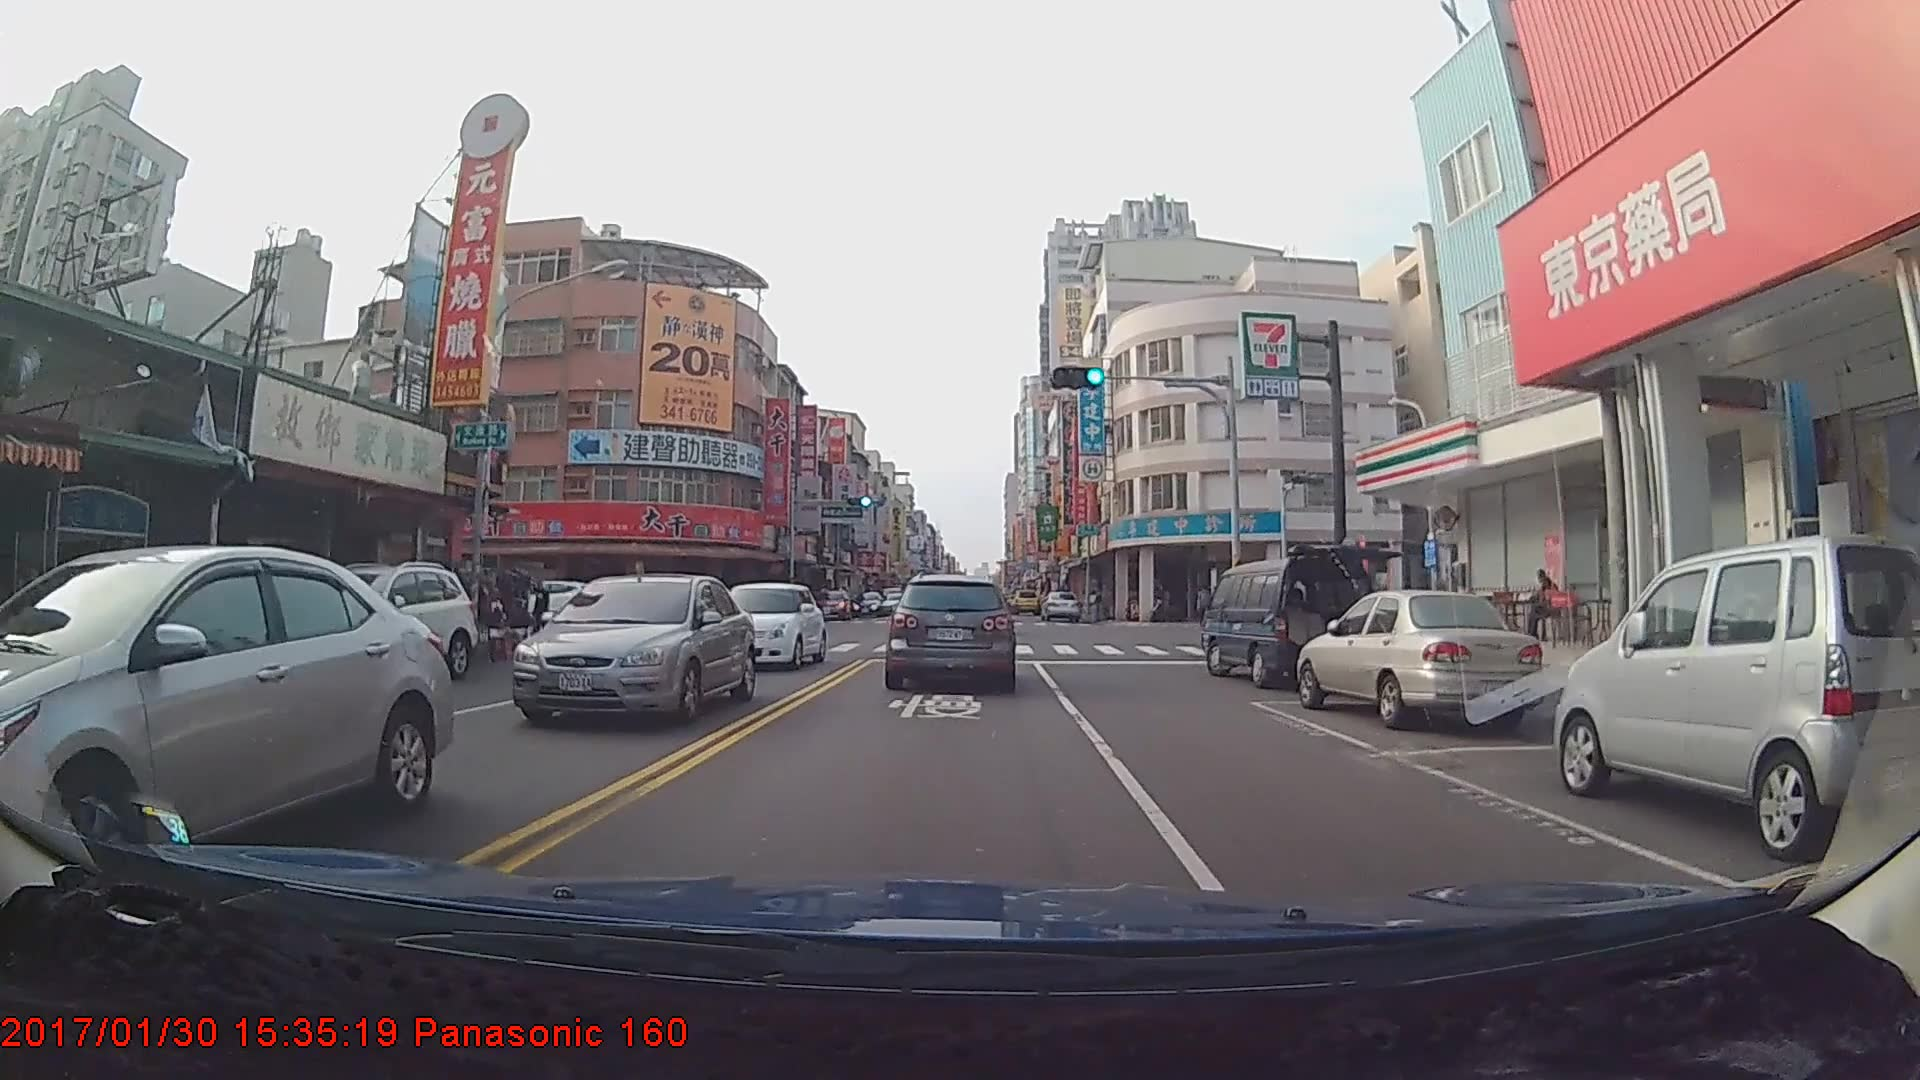vehicle: (1, 542, 454, 903), (1551, 534, 1920, 855), (514, 570, 757, 725), (1298, 587, 1535, 727), (1201, 560, 1371, 680), (885, 571, 1017, 694), (708, 580, 825, 670), (1040, 589, 1083, 624), (810, 585, 848, 620), (849, 592, 884, 616), (1010, 588, 1038, 612)
